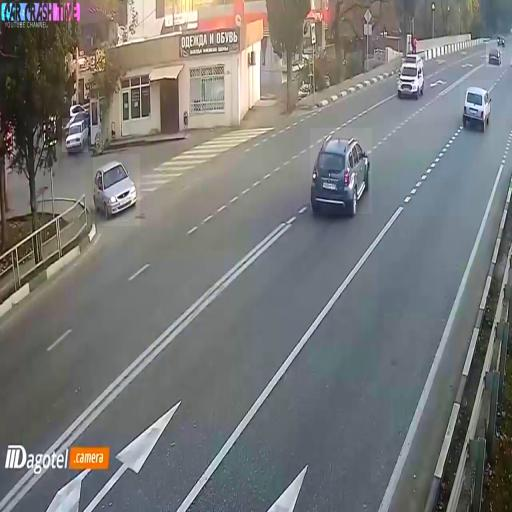小汽车: (310, 128, 372, 214), (93, 154, 140, 226), (460, 80, 493, 138), (395, 56, 423, 100), (62, 118, 88, 152), (486, 40, 502, 67)
